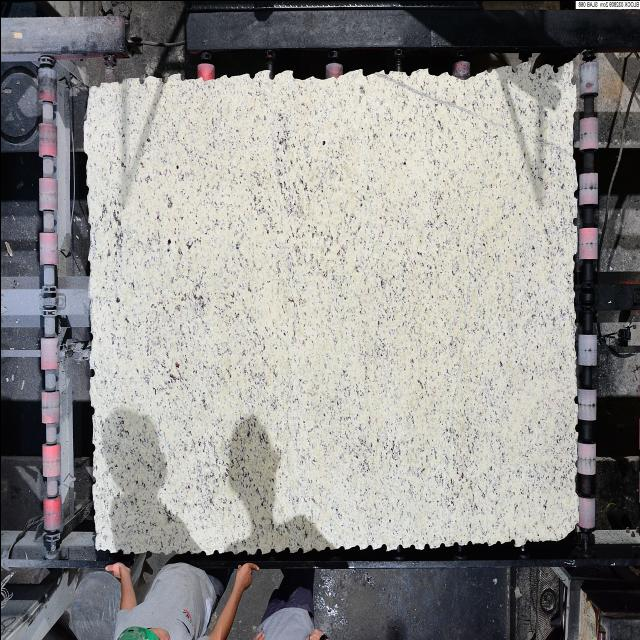chapa: (84, 64, 578, 553)
veio: (264, 68, 276, 82), (570, 181, 578, 201), (527, 62, 537, 76), (569, 74, 577, 88), (159, 74, 169, 85), (552, 62, 560, 74), (255, 546, 263, 556), (89, 366, 95, 379), (380, 541, 387, 552), (572, 216, 578, 227)
